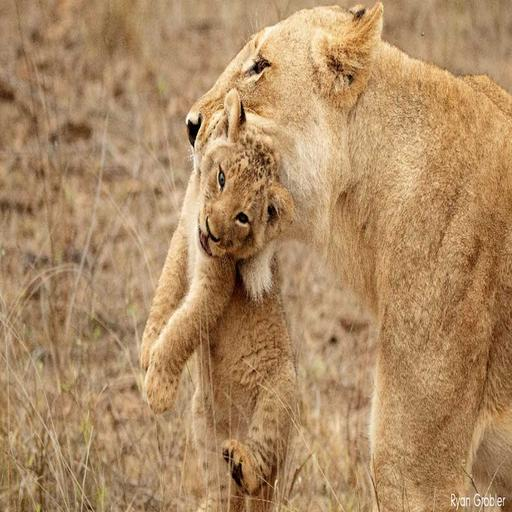Lion: (88, 0, 512, 512), (135, 92, 314, 512)
